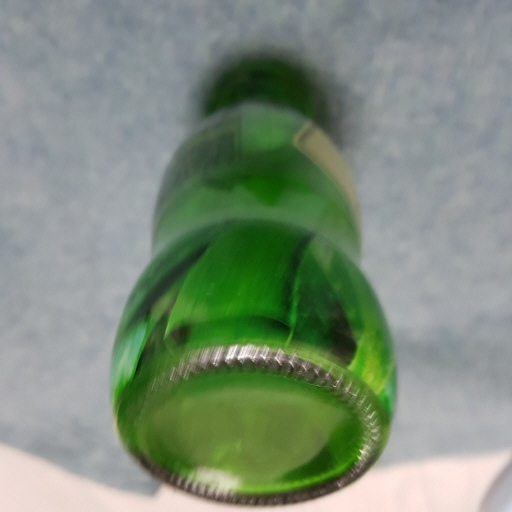Glass_4: (115, 53, 403, 505)
